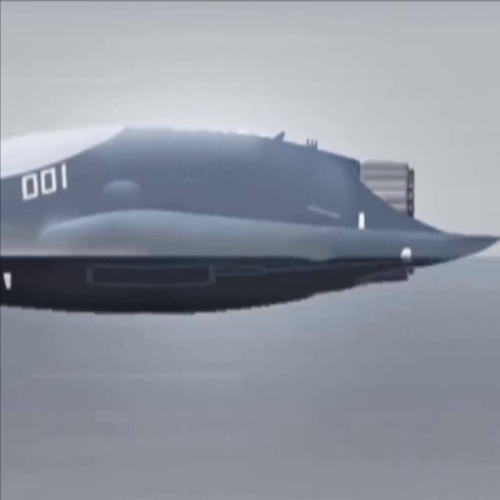uav981: (1, 122, 497, 321)
